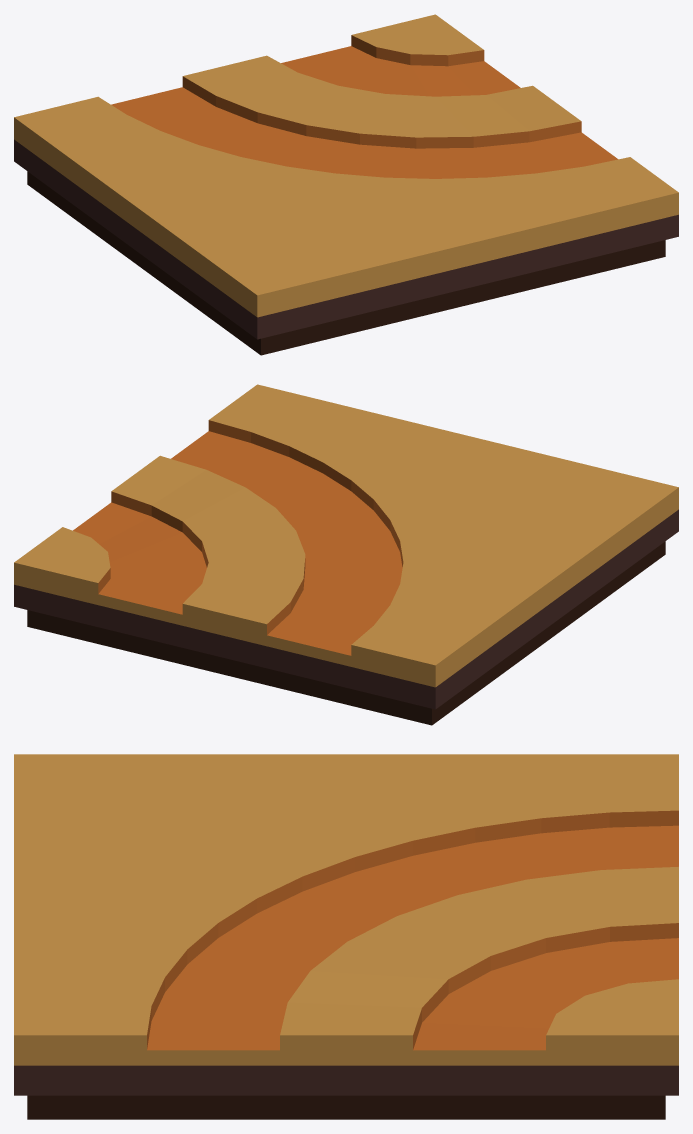
File: Tile_Dirt_Road_Corner.fbx
3 renders of one model, top to bottom at view 1: azimuth 30°, elevation 25°; view 2: azimuth 150°, elevation 25°; view 3: azimuth 270°, elevation 25°, orthographic. The views are drawn at different scales.
Visible parts, largest first — view 1: Tile_Dirt_Road_Corner; view 2: Tile_Dirt_Road_Corner; view 3: Tile_Dirt_Road_Corner.
Boxes of the visible parts, <box> form: Tile_Dirt_Road_Corner: <box>14,14,678,355</box>; Tile_Dirt_Road_Corner: <box>14,384,678,725</box>; Tile_Dirt_Road_Corner: <box>14,754,678,1119</box>.
Size of the model in its own units: 100 by 14.9 by 100.
